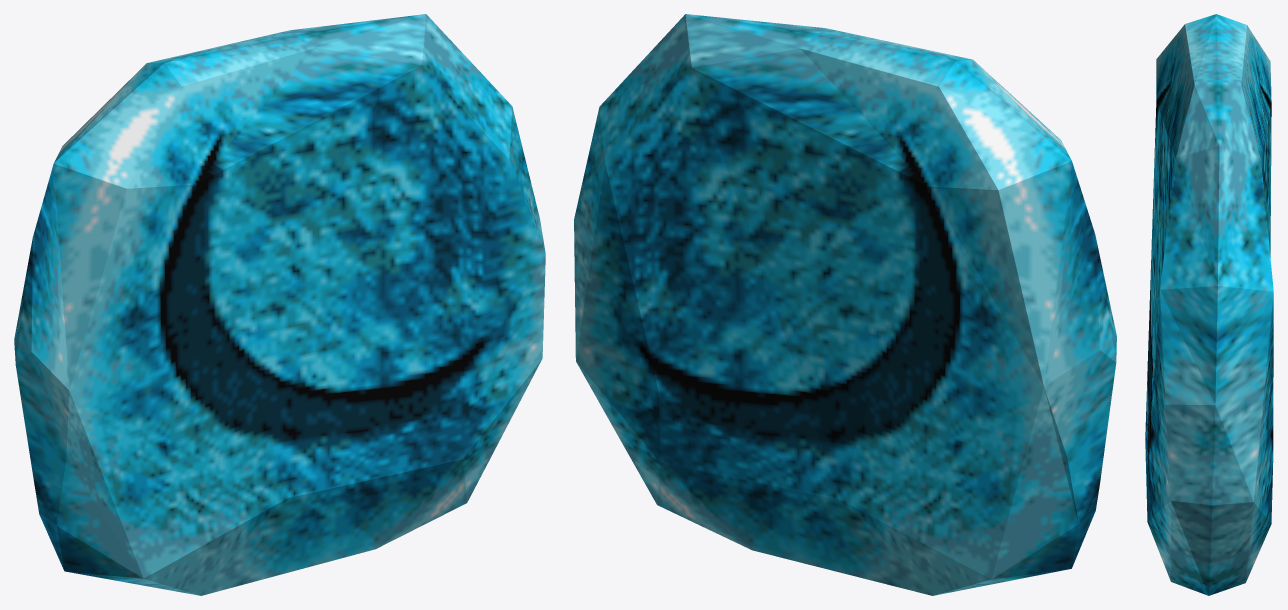
Rendered from Moon Rune.obj.
The picture shows the model from 3 angles, left to right: view 1: azimuth 30°, elevation 25°; view 2: azimuth 150°, elevation 25°; view 3: azimuth 270°, elevation 25°; orthographic projection. The views are drawn at different scales.
Visible parts, largest first — view 1: model1646_material164; view 2: model1646_material164; view 3: model1646_material164.
Part boxes in pixels (<box>): model1646_material164: <box>14,14,545,595</box>; model1646_material164: <box>574,14,1116,595</box>; model1646_material164: <box>1145,14,1273,595</box>.
Bounding box in the file's own units: 0.0372 × 0.0353 × 0.00863.
1 material, 1 textured.
